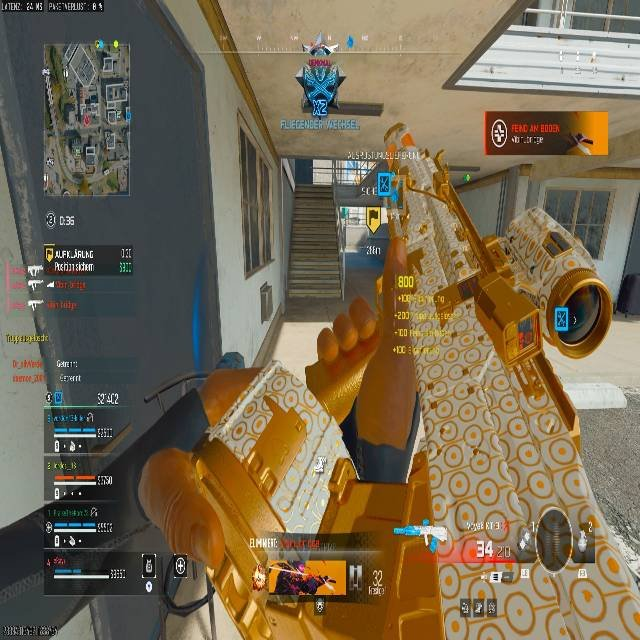head: (307, 44, 330, 57)
player: (294, 44, 346, 116)
